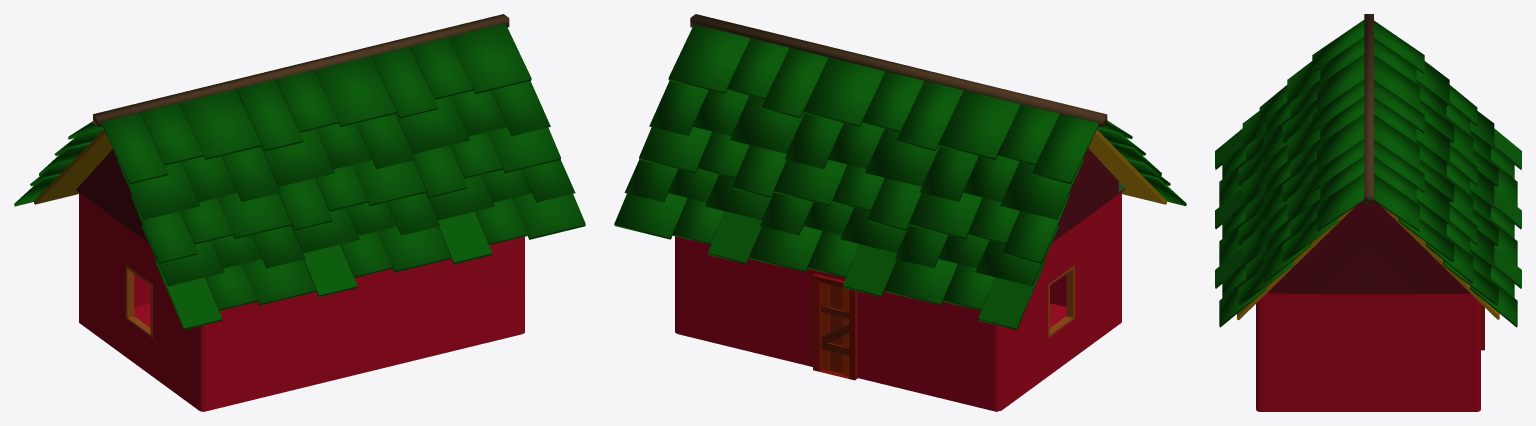
File: Rumah1.fbx
3 views of the same model, side by side, from view 1: azimuth 30°, elevation 25°; view 2: azimuth 150°, elevation 25°; view 3: azimuth 270°, elevation 25° (orthographic). The views are drawn at different scales.
Parts seen in each view (by area): view 1: Kuda2; view 2: Kuda2; view 3: Kuda2.
Boxes of the visible parts, box(x1,y1,x2,y2) form: Kuda2: box(14, 14, 585, 411); Kuda2: box(614, 14, 1186, 411); Kuda2: box(1215, 14, 1521, 411).
Size of the model in its own units: 655 by 469 by 399.
